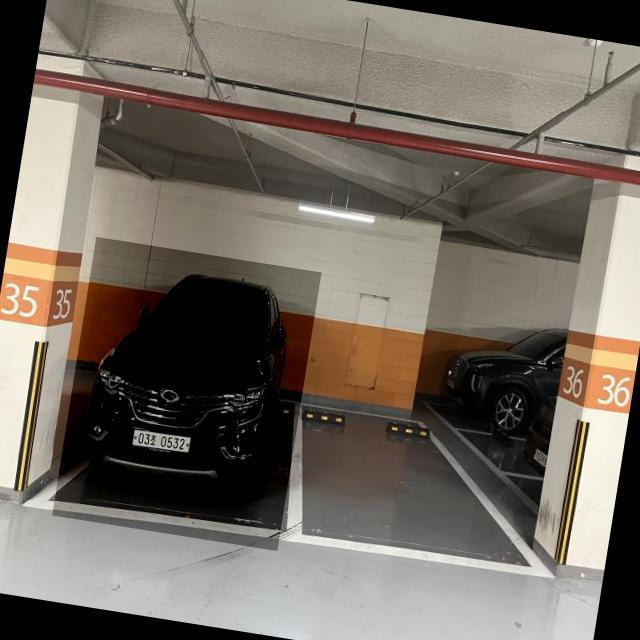empty: (286, 393, 488, 572)
occupied: (52, 238, 322, 552)
